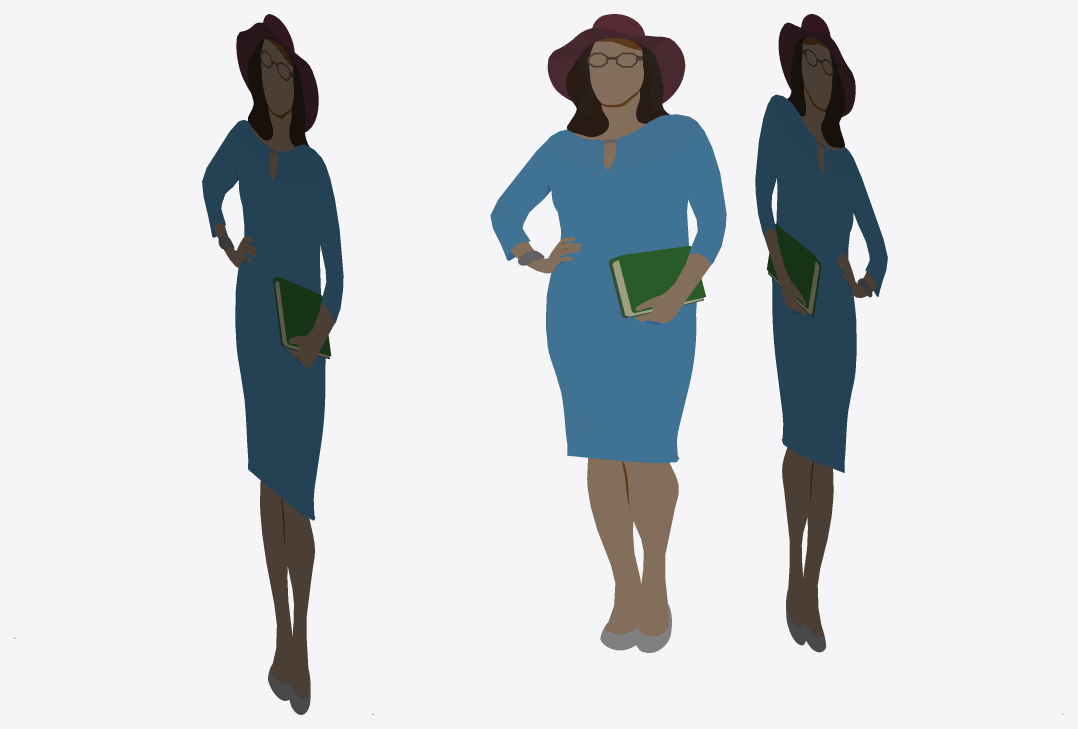
File: rec_trial.dae
The picture shows the model from 3 angles, left to right: view 1: azimuth 90°, elevation 25°; view 2: azimuth 150°, elevation 25°; view 3: azimuth 270°, elevation 25°; orthographic projection. The views are drawn at different scales.
Visible parts, largest first — view 1: Teddy (×13); view 2: Teddy (×18); view 3: Teddy (×11).
Part boxes in pixels (box(x1,y1,x2,y2)): Teddy (×13): box(202, 49, 343, 714); Teddy (×18): box(490, 14, 726, 652); Teddy (×11): box(755, 22, 887, 652).
Bounding box in the file's own units: 22.67 × 30.21 × 69.25.
